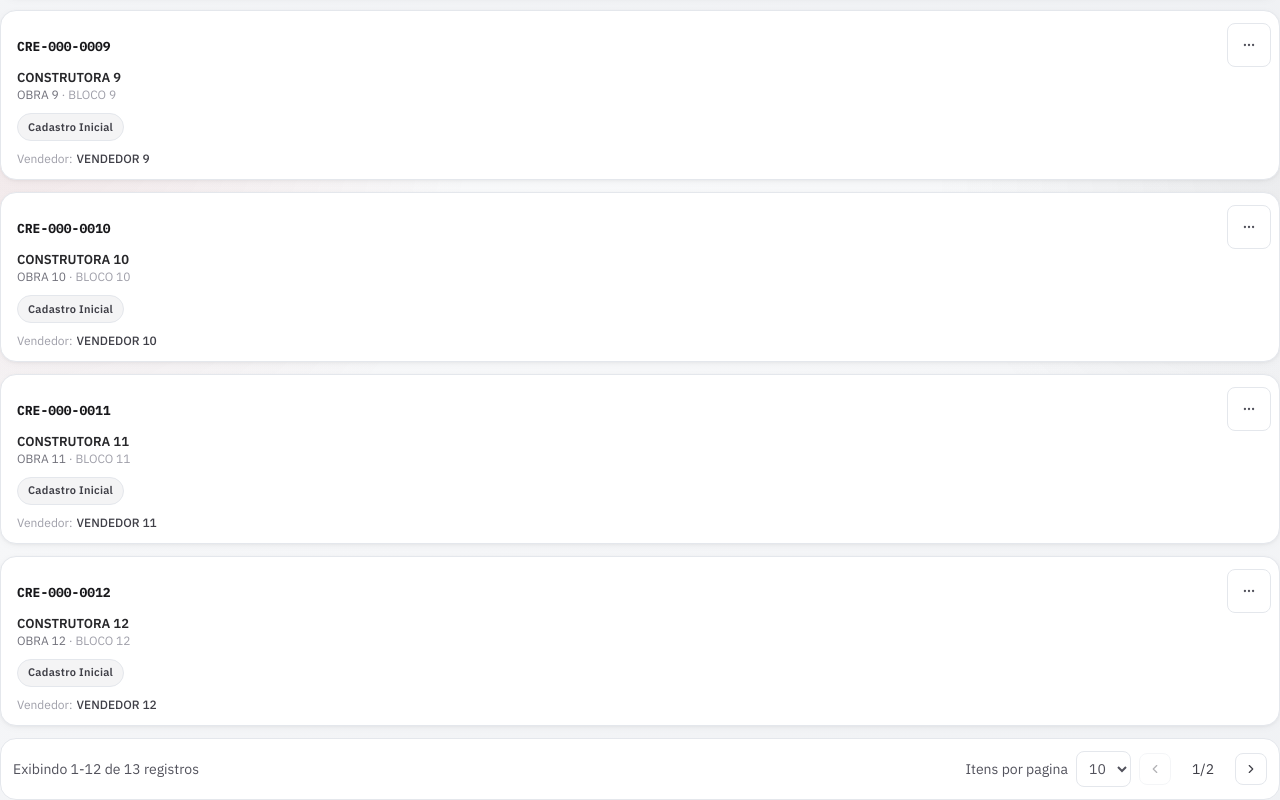
Test: paginação compartilhada › próxima página mostra os cards seguintes
(page scrolled)
Expected: the text "Exibindo 1-12 de 13 registros" is shown, [13, 758, 199, 778]
Click the button named "Proxima pagina".
click(1251, 768)  # box [1235, 752, 1267, 784]
(page scrolled)
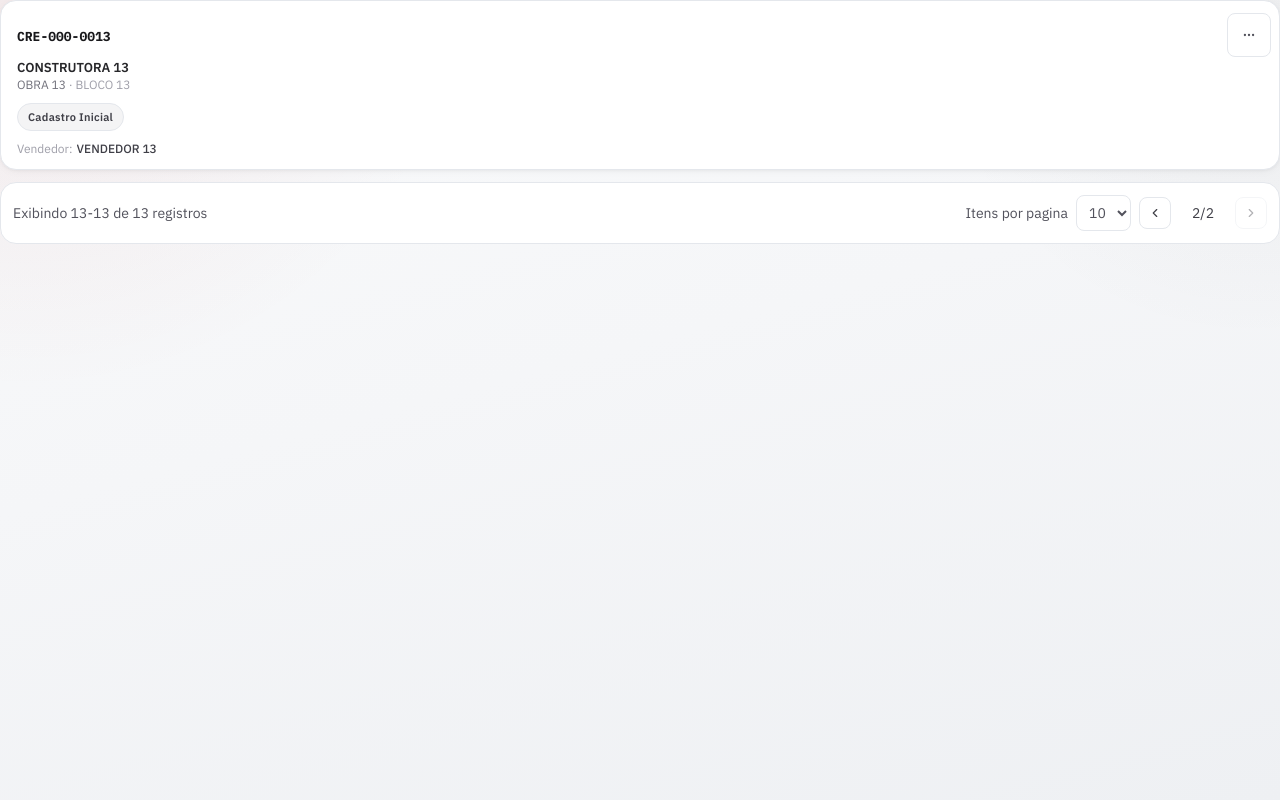
Expected: the text "2/2" is shown, [1192, 204, 1214, 222]
